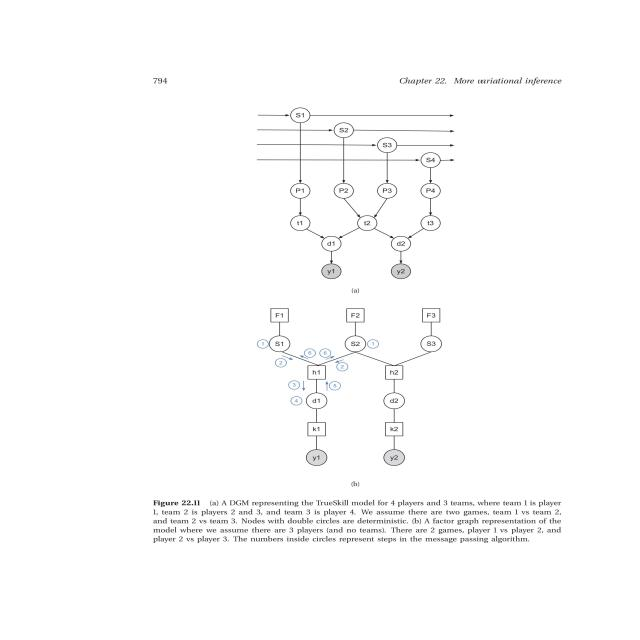diagram: (136, 99, 540, 478)
